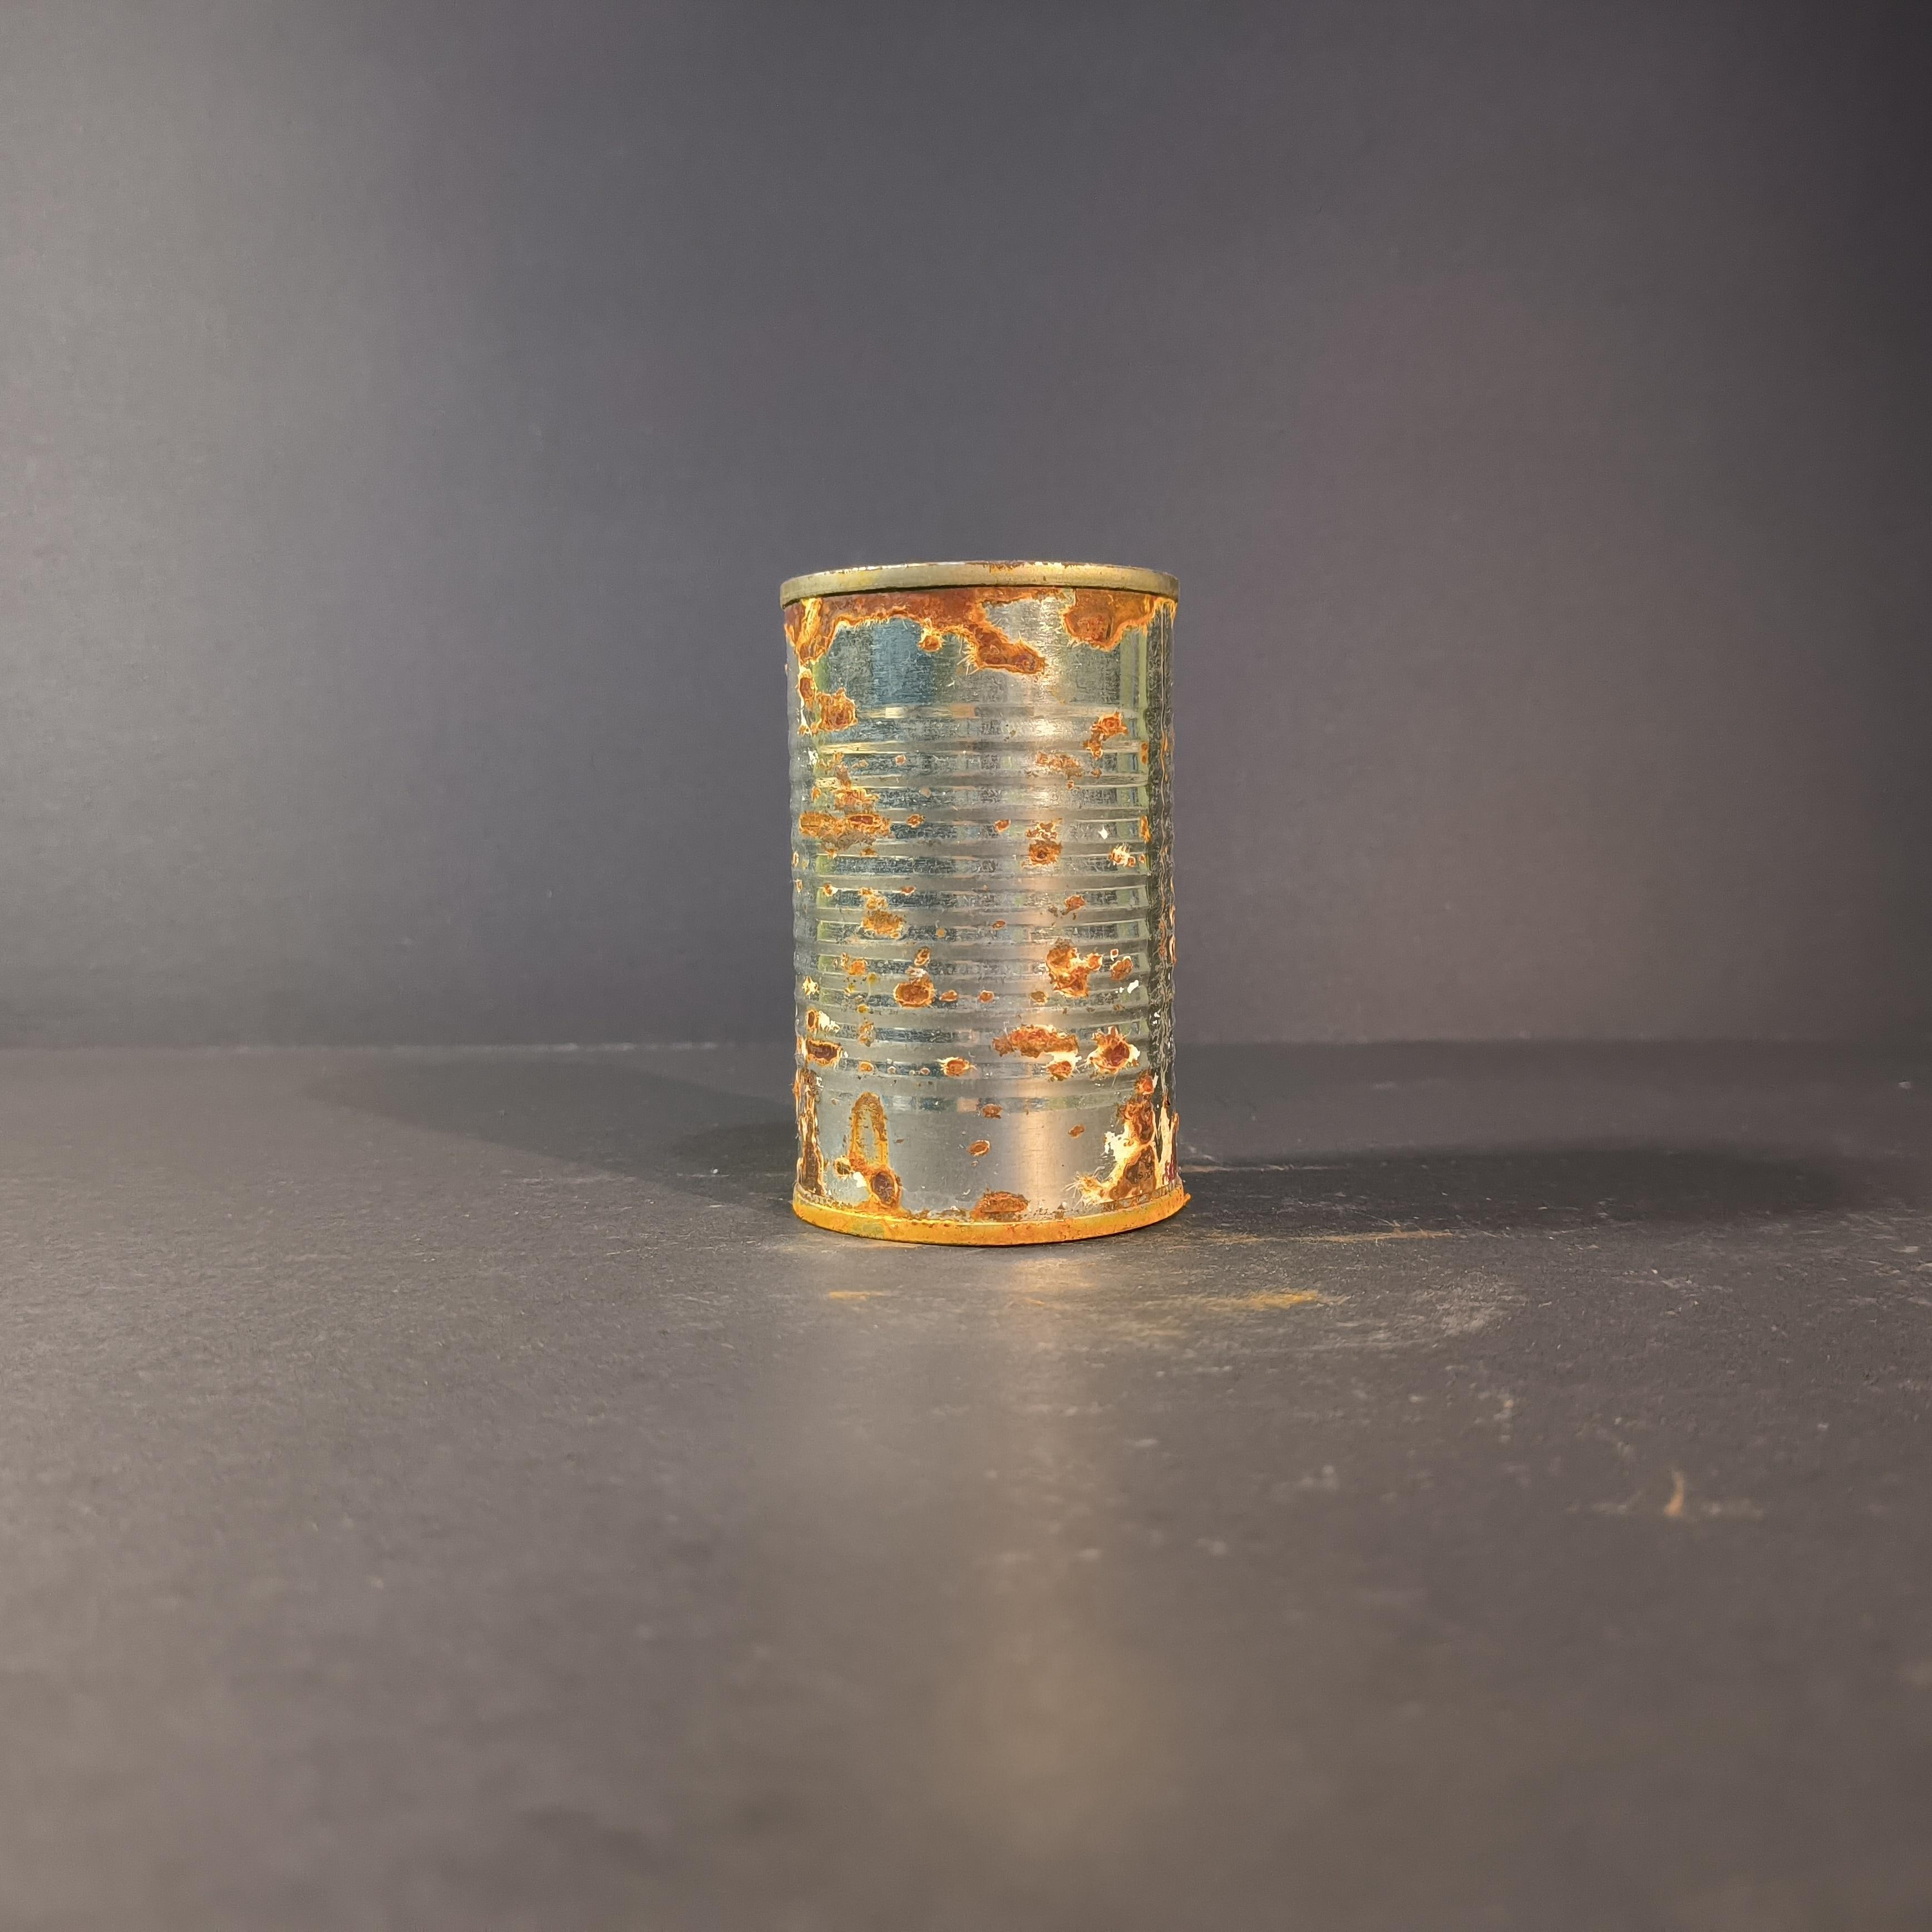Rusted: (777, 531, 1210, 1249)
